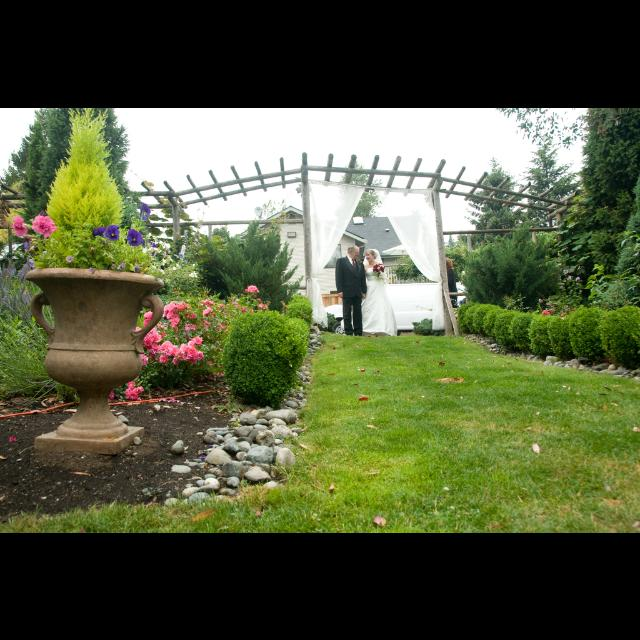Flower: (134, 303, 208, 369), (198, 300, 274, 342), (538, 297, 578, 319), (32, 216, 58, 240), (122, 382, 146, 402), (12, 212, 30, 238), (126, 228, 144, 248), (105, 222, 122, 242), (138, 202, 152, 220), (242, 284, 260, 296), (95, 226, 105, 240)
